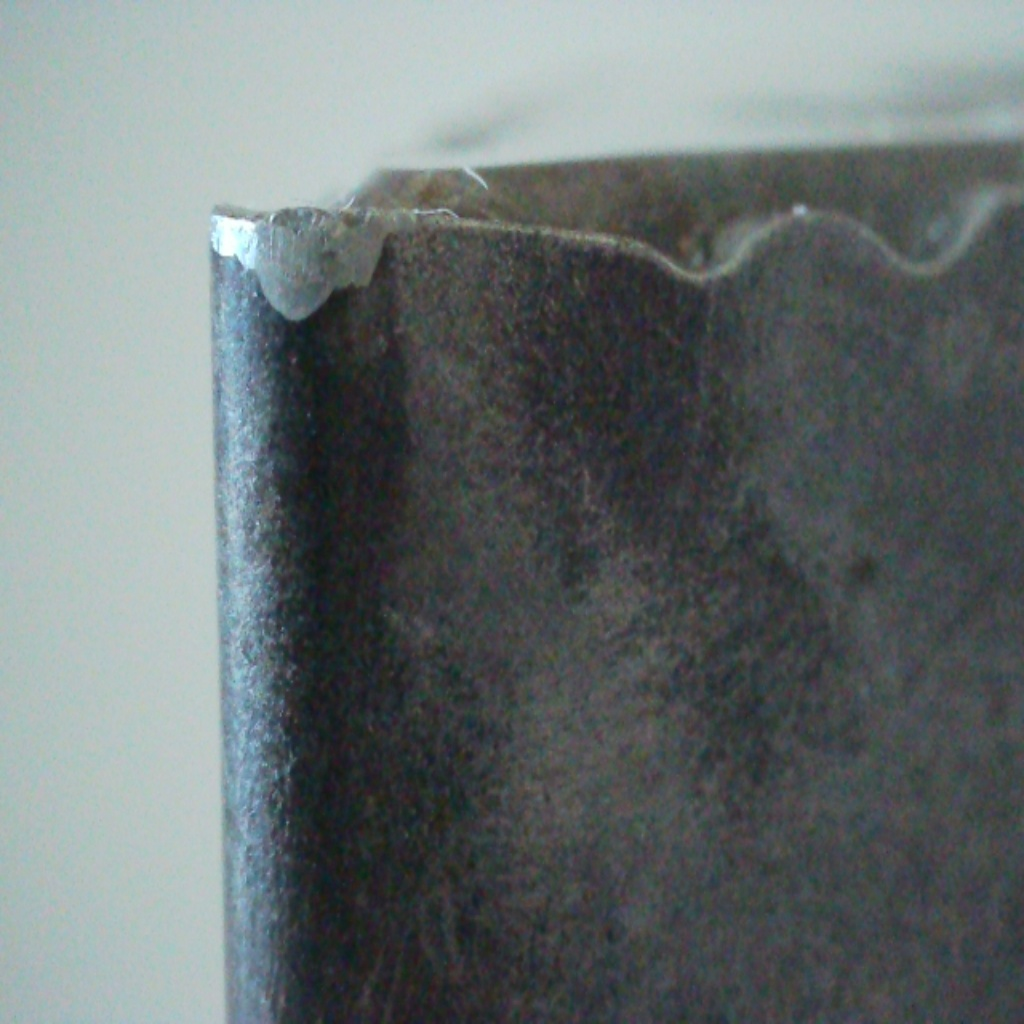flank_wear: (199, 192, 408, 331)
